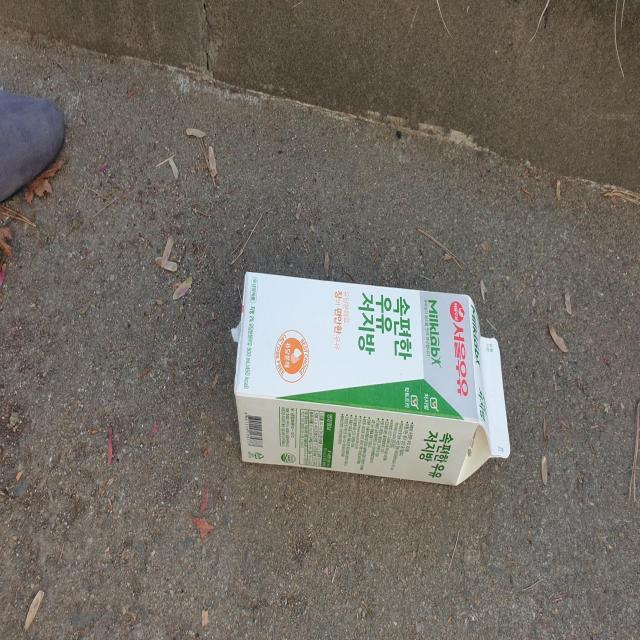paperpack: (234, 272, 511, 484)
